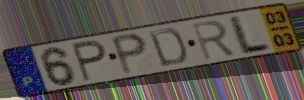6: (39, 45, 79, 87)
D: (146, 27, 190, 69)
L: (228, 13, 273, 57)
P: (109, 32, 150, 77), (70, 39, 109, 84)
R: (189, 19, 239, 63)
